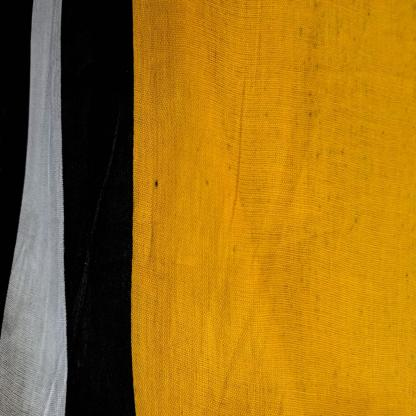spot: (304, 85, 326, 162), (299, 241, 316, 293), (345, 204, 365, 236), (148, 168, 162, 206)
